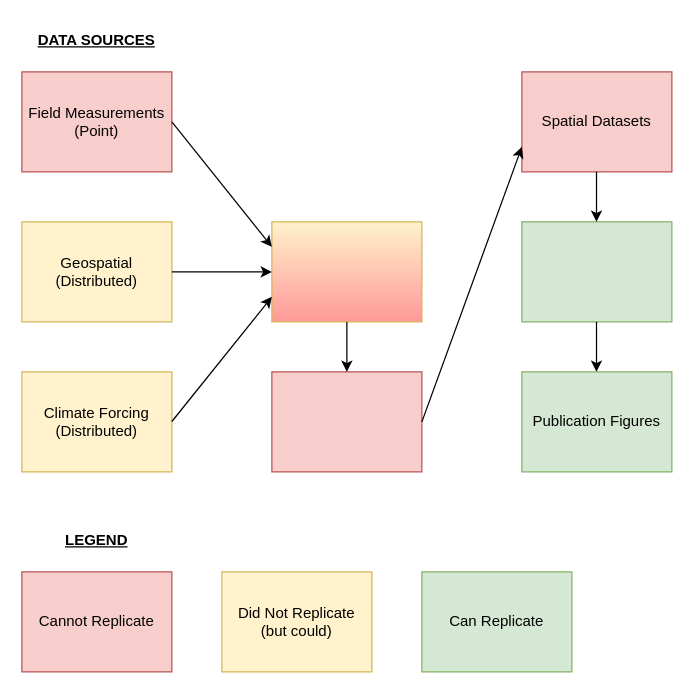
The diagram is 694 pixels wide and 694 high, and some of its shapes have lost their labels. The box of each missing label's shape, as (x1, y1, x2, y2) in pixels:
Data Driven Models (SVM, RF, GBDT): (271, 371, 422, 472)
Data Prep (Resampling, Correction, etc): (271, 221, 422, 322)
Visualized Datasets (Maps): (521, 221, 672, 322)
